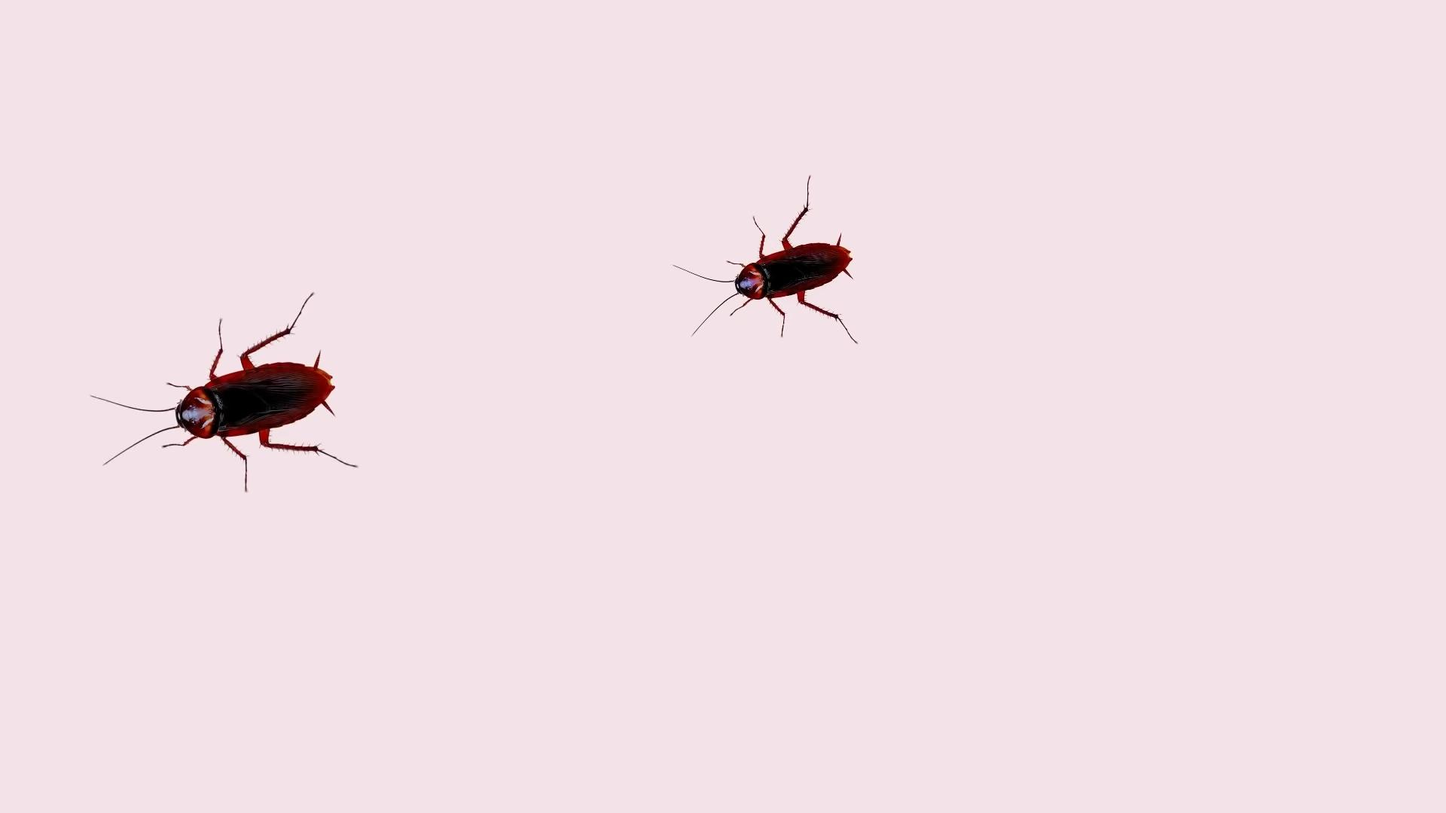cockroach: (87, 328, 350, 477), (688, 202, 864, 342)
